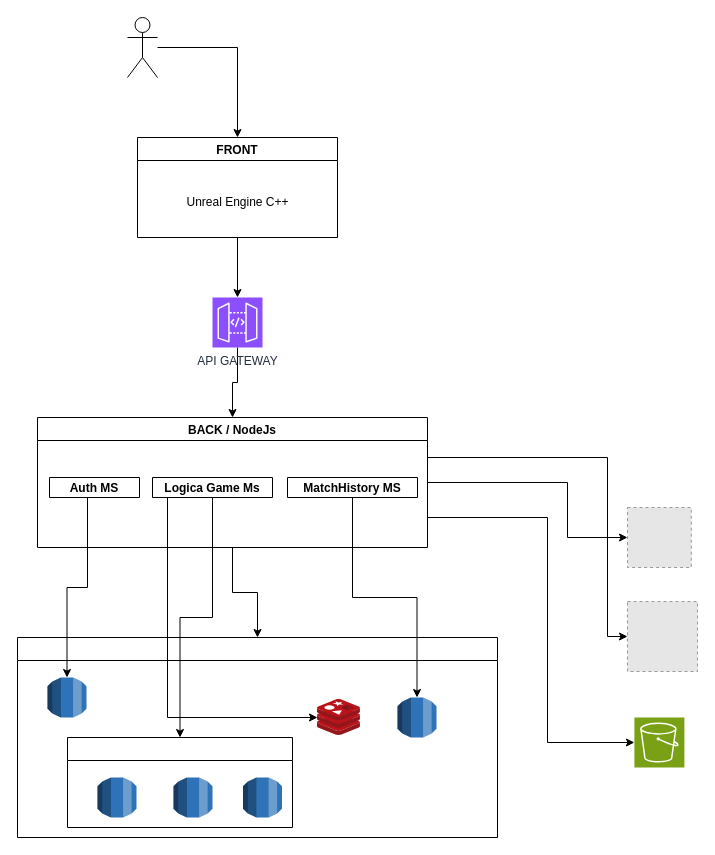
Image size: 715x855. Some labels were removed from this diagram. Grey dashed boxes stand in for pictures. The shapes that lost their labels are listed below. From the top down, each one's box as (x1, y1, x2, y2) in pixels, then its label:
(126, 16, 158, 78): Player
(16, 636, 498, 838): Infra
(66, 736, 292, 828): Cluster RDS
